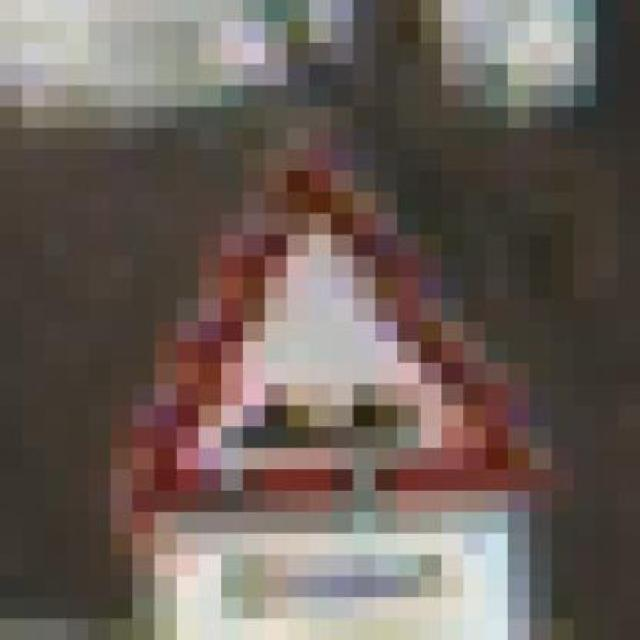Uneven Road: (89, 106, 552, 512)
